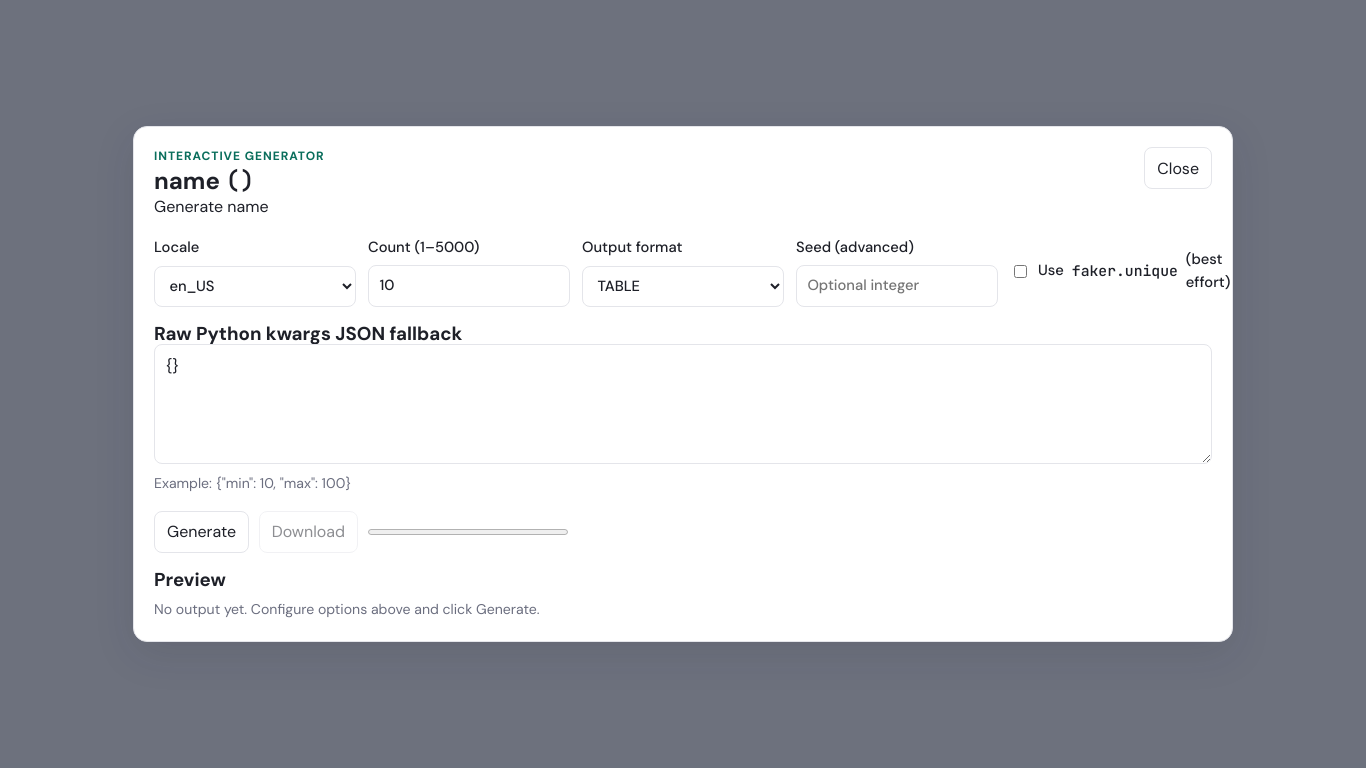
Test case: TryPanel › generates output and renders preview
The image size is (1366, 768).
Click the button "Generate" at (202, 532), box [154,510,249,552]
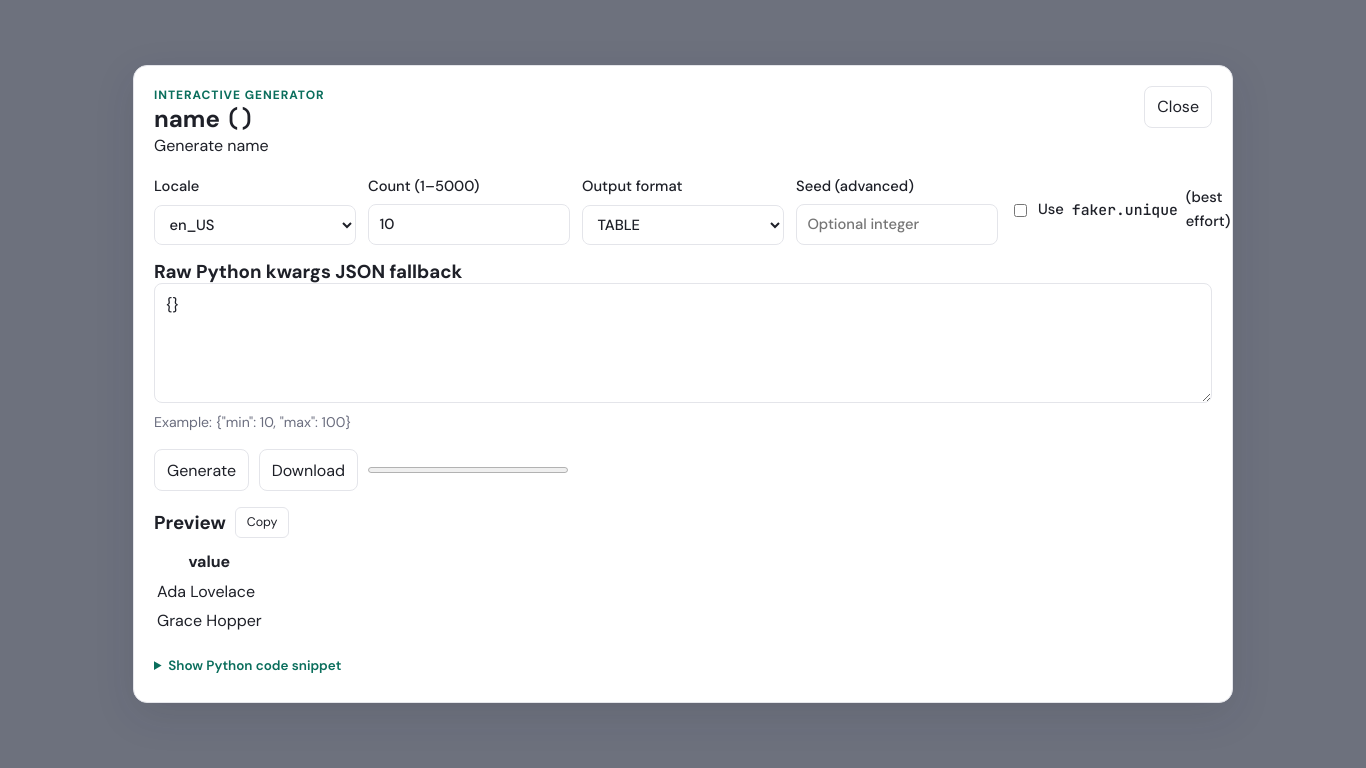
Result: the text "Ada Lovelace" is shown at [156,578,263,605]
